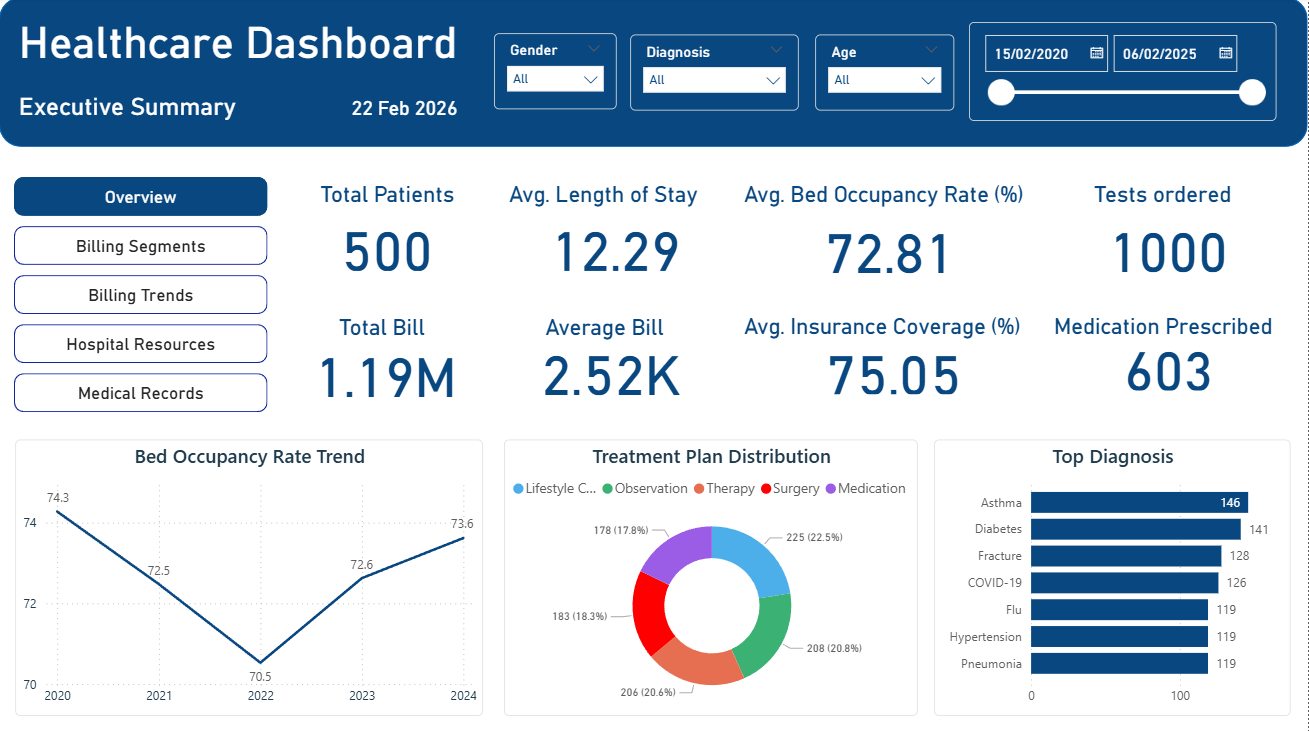

What the dashboard file says about the page in this screenshot:
{"tool":"powerbi","page":{"name":"Overview","canvas":[1280,720],"ordinal":0},"visuals":[{"type":"shape","box":[0,0,1280.3,146.7],"z":0,"group":"g1"},{"type":"textbox","box":[14.7,14.7,454.9,59.9],"z":1000,"group":"g1"},{"type":"textbox","box":[14.7,88,223.8,40.4],"z":2000,"group":"g1"},{"type":"pageNavigator","box":[14.7,176.1,248.2,232.3],"z":3000},{"type":"card","fields":{"Values":["CountNonNull(patients.Patient_ID)"]},"box":[326.5,212.8,105.2,59.9],"z":4000},{"type":"card","fields":{"Values":["billing.Avg LOS (Days)"]},"box":[528.3,212.8,150.4,59.9],"z":5000},{"type":"card","fields":{"Values":["hospital_resources.Average Bed Occupancy Rate"]},"box":[798.5,203,145.5,81.9],"z":6000},{"type":"lineChart","title":"Bed Occupancy Rate Trend","fields":{"Category":["hospital_resources.Date.Variation.Date Hierarchy.Year"],"Y":["hospital_resources.Average Bed Occupancy Rate"]},"box":[15.9,432.9,457.3,270.2],"z":7000},{"type":"clusteredBarChart","title":"Top Diagnosis","fields":{"Category":["patients.Diagnosis"],"Y":["CountNonNull(medical_records.Patient_ID)"]},"box":[914.7,432.9,348.5,270.2],"z":8000},{"type":"donutChart","title":"Treatment Plan Distribution","fields":{"Category":["patients.Treatment_Plan"],"Y":["CountNonNull(medical_records.Patient_ID)"]},"box":[494,432.9,404.8,270.2],"z":9000},{"type":"card","fields":{"Values":["patients.Today Label"]},"box":[335.1,88,123.5,41.6],"z":10000,"group":"g1"},{"type":"slicer","fields":{"Values":["patients.Diagnosis"]},"box":[617.5,36.7,165.1,74.6],"z":11000,"group":"g1"},{"type":"slicer","fields":{"Values":["billing.Billing_Date"]},"box":[948.9,24.5,300.8,96.6],"z":12000,"group":"g1"},{"type":"textbox","box":[309.4,176.1,149.2,40.4],"z":13000},{"type":"textbox","box":[494,176.1,206.7,40.4],"z":14000},{"type":"textbox","box":[723.9,176.1,295.9,40.4],"z":15000},{"type":"card","fields":{"Values":["Count(medical_records.Prescribed_Medication)"]},"box":[1093.2,328.9,102.7,61.1],"z":16000},{"type":"card","fields":{"Values":["CountNonNull(medical_records.Test_Result)"]},"box":[1077.3,210.3,133.3,66],"z":17000},{"type":"textbox","box":[1066.3,176.1,155.3,40.4],"z":18000},{"type":"textbox","box":[1027.2,304.5,234.8,41.6],"z":19000},{"type":"card","fields":{"Values":["billing.Total Bill"]},"box":[294.7,331.4,167.5,68.5],"z":20000},{"type":"card","fields":{"Values":["billing.Average Bill"]},"box":[519.5,327,159,73.4],"z":21000},{"type":"textbox","box":[327.5,306.2,106.4,40.4],"z":22000},{"type":"textbox","box":[529.2,306.2,138.2,40.4],"z":23000},{"type":"card","fields":{"Values":["billing.Avg Insurance Coverage %"]},"box":[798.5,332.6,154.1,61.1],"z":24000},{"type":"textbox","box":[723.9,304.5,295.9,41.6],"z":25000},{"type":"slicer","fields":{"Values":["patients.Gender"]},"box":[484.2,35.5,119.8,74.6],"z":26000,"group":"g1"},{"type":"slicer","fields":{"Values":["patients.Age Category"]},"box":[798.5,36.7,135.7,74.6],"z":27000,"group":"g1"},{"type":"group","id":"g1","title":"Group 1","box":[0,0,1280.3,146.7],"z":27001}]}

Visuals, with their boxes in screenshot pixels (x1, y1, x2, y2), scaled from the page's 1280x720 canvas onto the 1309x731 screenshot:
shape: {"x1": 0, "y1": 0, "x2": 1308, "y2": 149}
textbox: {"x1": 15, "y1": 15, "x2": 480, "y2": 76}
textbox: {"x1": 15, "y1": 89, "x2": 244, "y2": 130}
pageNavigator: {"x1": 15, "y1": 179, "x2": 269, "y2": 415}
card - CountNonNull(patients.Patient_ID): {"x1": 334, "y1": 216, "x2": 441, "y2": 277}
card - billing.Avg LOS (Days): {"x1": 540, "y1": 216, "x2": 694, "y2": 277}
card - hospital_resources.Average Bed Occupancy Rate: {"x1": 817, "y1": 206, "x2": 965, "y2": 289}
"Bed Occupancy Rate Trend" lineChart: {"x1": 16, "y1": 440, "x2": 484, "y2": 714}
"Top Diagnosis" clusteredBarChart: {"x1": 935, "y1": 440, "x2": 1292, "y2": 714}
"Treatment Plan Distribution" donutChart: {"x1": 505, "y1": 440, "x2": 919, "y2": 714}
card - patients.Today Label: {"x1": 343, "y1": 89, "x2": 469, "y2": 132}
slicer - patients.Diagnosis: {"x1": 631, "y1": 37, "x2": 800, "y2": 113}
slicer - billing.Billing_Date: {"x1": 970, "y1": 25, "x2": 1278, "y2": 123}
textbox: {"x1": 316, "y1": 179, "x2": 469, "y2": 220}
textbox: {"x1": 505, "y1": 179, "x2": 717, "y2": 220}
textbox: {"x1": 740, "y1": 179, "x2": 1043, "y2": 220}
card - Count(medical_records.Prescribed_Medication): {"x1": 1118, "y1": 334, "x2": 1223, "y2": 396}
card - CountNonNull(medical_records.Test_Result): {"x1": 1102, "y1": 214, "x2": 1238, "y2": 281}
textbox: {"x1": 1090, "y1": 179, "x2": 1249, "y2": 220}
textbox: {"x1": 1050, "y1": 309, "x2": 1291, "y2": 351}
card - billing.Total Bill: {"x1": 301, "y1": 336, "x2": 473, "y2": 406}
card - billing.Average Bill: {"x1": 531, "y1": 332, "x2": 694, "y2": 407}
textbox: {"x1": 335, "y1": 311, "x2": 444, "y2": 352}
textbox: {"x1": 541, "y1": 311, "x2": 683, "y2": 352}
card - billing.Avg Insurance Coverage %: {"x1": 817, "y1": 338, "x2": 974, "y2": 400}
textbox: {"x1": 740, "y1": 309, "x2": 1043, "y2": 351}
slicer - patients.Gender: {"x1": 495, "y1": 36, "x2": 618, "y2": 112}
slicer - patients.Age Category: {"x1": 817, "y1": 37, "x2": 955, "y2": 113}
"Group 1" group: {"x1": 0, "y1": 0, "x2": 1308, "y2": 149}
